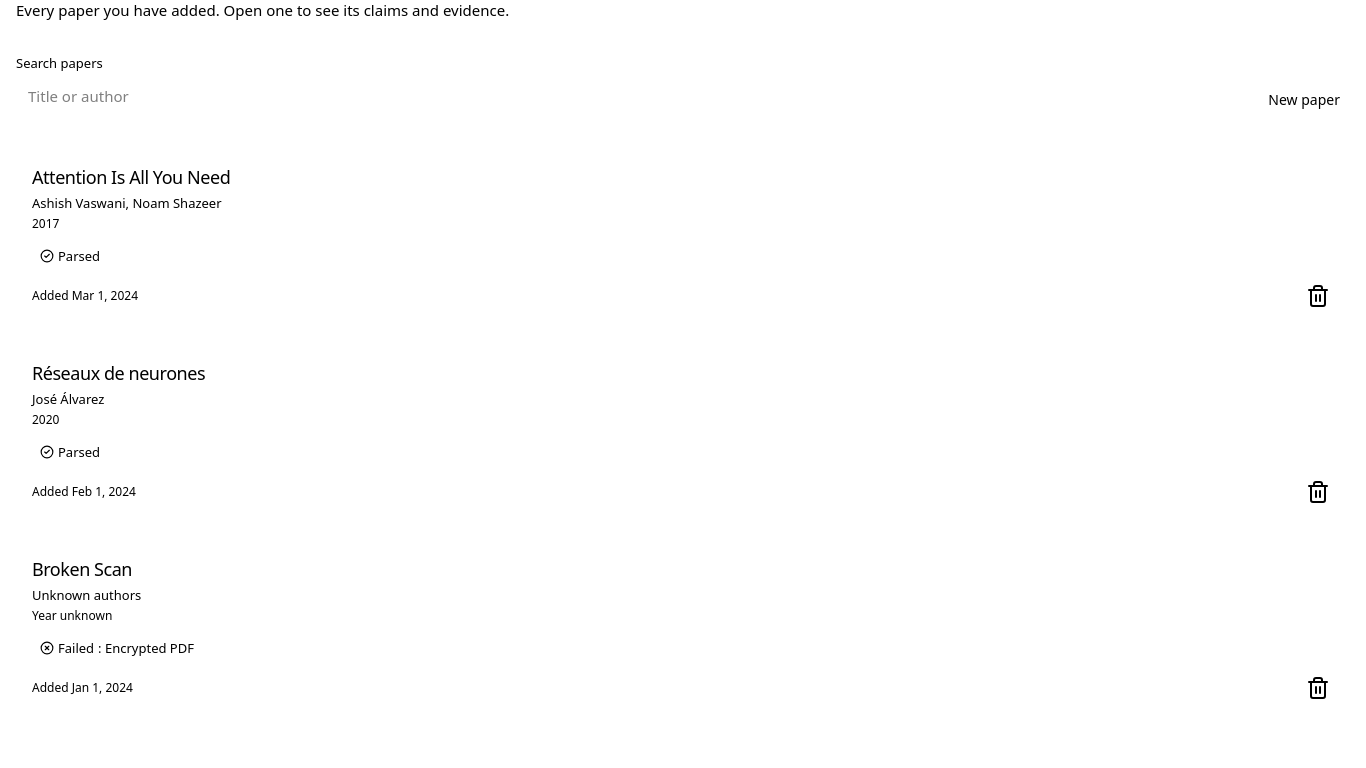
Test: LibraryPage › deletes after confirming and removes the card
(page scrolled)
Expected: the link "Broken Scan" is shown, [32, 557, 132, 581]
Click the button named "Delete Broken Scan" at (1318, 688), box [1302, 672, 1334, 704]
(page scrolled)
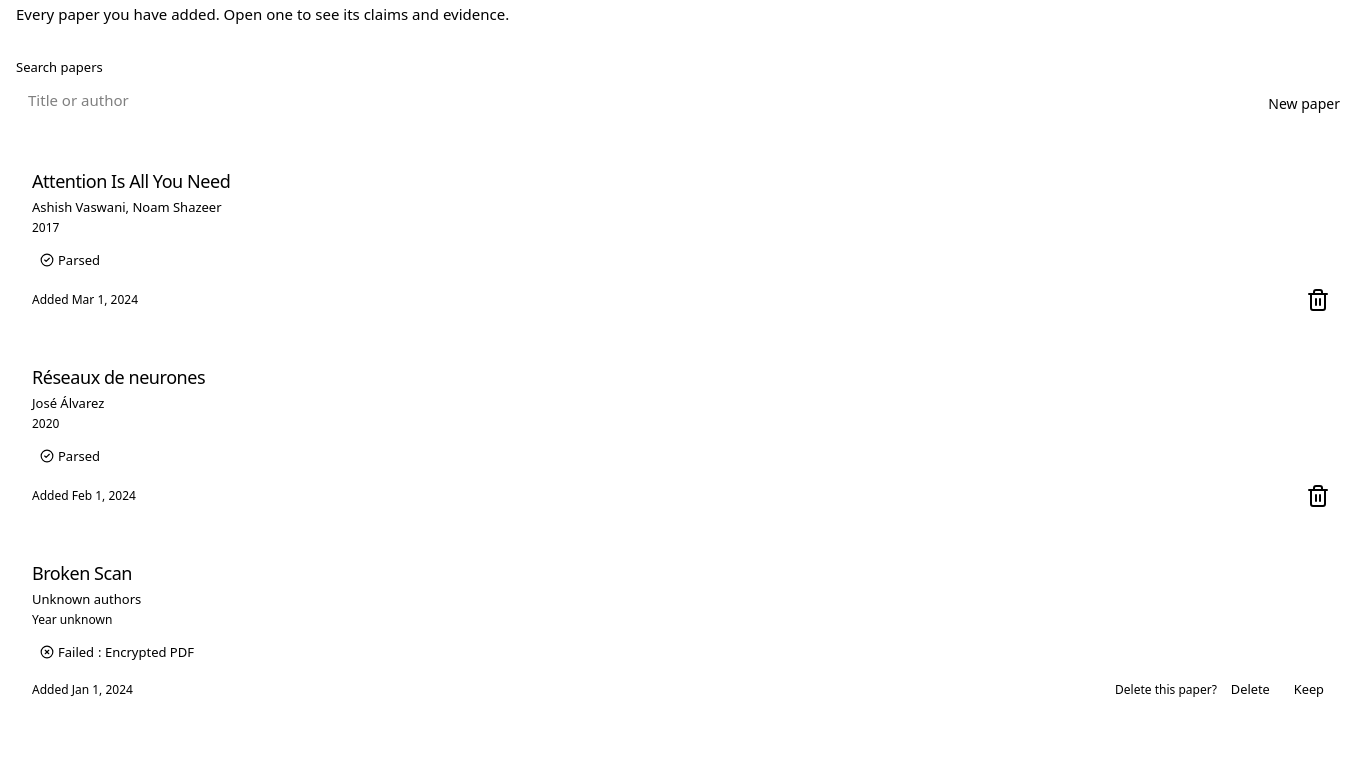
Click the button "Delete" at (1250, 690), box [1221, 676, 1280, 704]
(page scrolled)
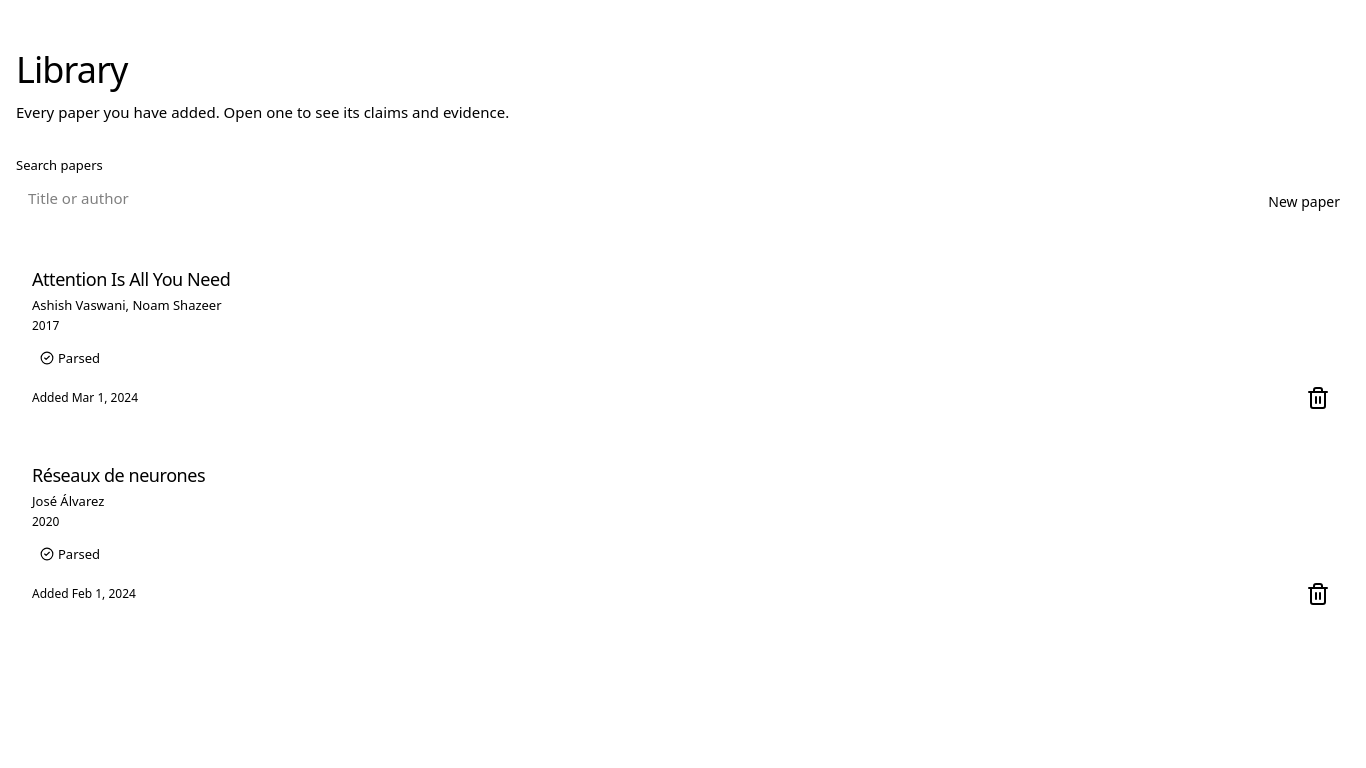
Expected: the link "Broken Scan" is gone
